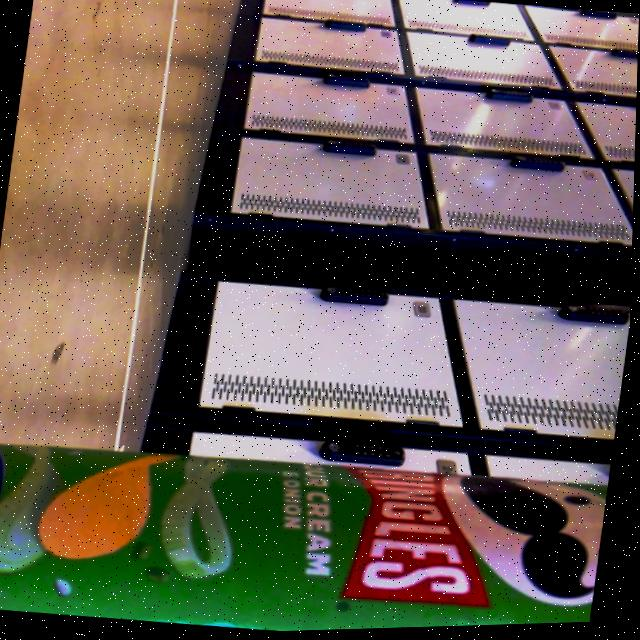greenpringles: (0, 419, 603, 640)
